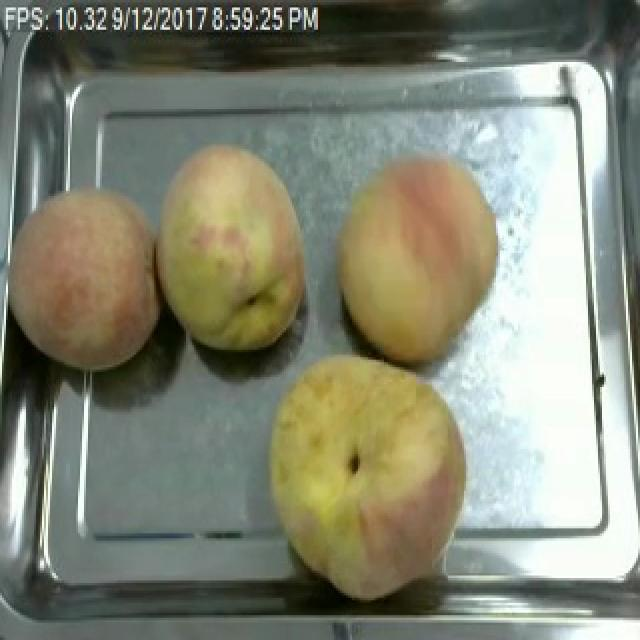Fruit: (256, 340, 480, 610), (328, 146, 510, 372), (146, 134, 318, 362), (8, 174, 172, 377)
